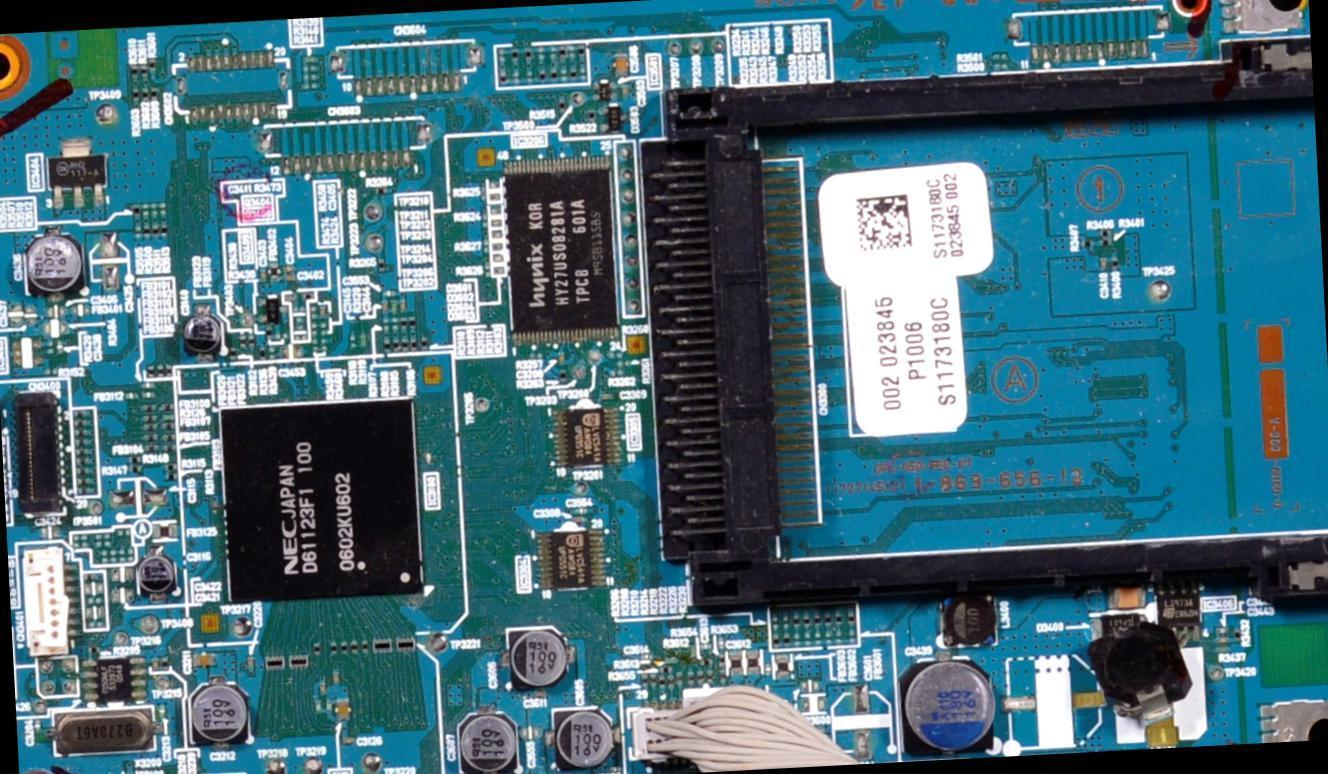Capacitor: (20, 235, 88, 300), (189, 681, 253, 746), (138, 549, 180, 599), (185, 314, 223, 360), (725, 649, 765, 676), (519, 722, 545, 744), (335, 695, 354, 724), (613, 50, 630, 78), (112, 588, 138, 604), (112, 567, 136, 584), (192, 653, 216, 669), (246, 653, 257, 680), (279, 346, 302, 358), (316, 677, 328, 697), (48, 304, 65, 318), (86, 607, 104, 620), (86, 583, 105, 595), (8, 310, 25, 323), (555, 349, 566, 369), (597, 390, 617, 401), (620, 81, 632, 99), (330, 668, 340, 687), (285, 264, 295, 282), (569, 505, 591, 513), (570, 514, 589, 523), (28, 309, 38, 326), (258, 268, 268, 284), (319, 305, 328, 322), (158, 704, 167, 720), (285, 293, 298, 303), (399, 300, 408, 314), (639, 652, 654, 659), (57, 340, 63, 357), (153, 659, 160, 672), (382, 301, 389, 313)
Connector: (18, 388, 70, 519), (21, 543, 74, 656)
IC: (217, 399, 439, 606), (504, 150, 626, 341), (530, 524, 610, 597), (554, 402, 621, 468), (82, 656, 150, 703), (83, 656, 147, 703), (46, 152, 112, 192), (1155, 589, 1209, 629), (14, 338, 43, 370), (597, 78, 618, 101)
Resistor: (359, 634, 371, 657), (326, 636, 339, 656), (698, 656, 717, 668), (782, 611, 792, 633), (383, 287, 401, 299), (293, 312, 305, 330), (86, 621, 109, 630), (534, 46, 546, 63), (339, 636, 349, 656), (615, 359, 626, 377), (585, 107, 598, 122), (556, 369, 569, 384), (846, 628, 858, 644), (299, 75, 323, 83), (557, 97, 567, 116), (992, 51, 1009, 62), (993, 63, 1013, 72), (126, 466, 146, 475), (86, 597, 104, 607), (772, 612, 781, 632), (324, 699, 334, 717), (263, 325, 274, 341), (143, 224, 153, 241), (292, 332, 309, 342), (258, 344, 268, 361), (312, 641, 322, 658), (301, 83, 325, 90), (675, 671, 686, 686), (313, 701, 322, 719), (372, 188, 392, 196), (824, 629, 834, 645), (548, 46, 556, 66), (568, 44, 577, 61), (512, 68, 521, 85), (160, 203, 168, 222), (697, 667, 705, 686), (302, 66, 321, 74), (700, 642, 715, 652), (149, 87, 159, 102), (134, 222, 142, 240), (490, 243, 506, 252), (383, 316, 391, 334), (104, 533, 112, 551), (94, 534, 102, 552), (119, 547, 127, 565), (303, 57, 319, 66), (716, 635, 725, 651), (793, 630, 801, 648), (420, 337, 430, 351), (142, 203, 150, 220), (161, 223, 169, 240), (409, 314, 417, 331), (804, 628, 812, 645), (835, 627, 843, 644), (128, 456, 143, 465), (352, 636, 358, 658), (310, 304, 318, 320), (47, 341, 55, 357), (230, 346, 238, 362), (497, 47, 505, 63), (651, 674, 659, 690), (151, 203, 158, 221), (489, 219, 503, 228), (378, 259, 387, 273), (269, 346, 278, 360), (109, 551, 118, 565), (608, 350, 623, 358), (149, 56, 157, 71), (130, 64, 138, 79), (140, 65, 148, 80), (403, 336, 410, 353), (688, 669, 695, 686), (560, 65, 567, 82), (580, 65, 587, 82), (133, 205, 141, 219), (489, 194, 503, 202), (154, 224, 161, 240), (302, 294, 316, 302), (390, 300, 398, 314), (401, 317, 408, 333), (310, 324, 318, 338), (163, 463, 177, 471), (127, 546, 134, 562), (141, 90, 149, 104), (46, 368, 58, 377), (816, 629, 822, 647), (411, 336, 418, 351), (393, 338, 400, 353), (73, 535, 80, 550), (526, 71, 533, 86), (100, 553, 108, 566), (1236, 628, 1242, 645), (133, 88, 139, 105), (320, 324, 327, 338), (322, 340, 329, 354), (384, 339, 391, 353), (708, 670, 715, 684), (667, 676, 675, 688), (493, 267, 506, 274), (312, 340, 319, 353), (82, 534, 89, 547), (392, 318, 398, 333), (166, 476, 178, 483), (642, 676, 649, 688), (163, 658, 169, 671)
